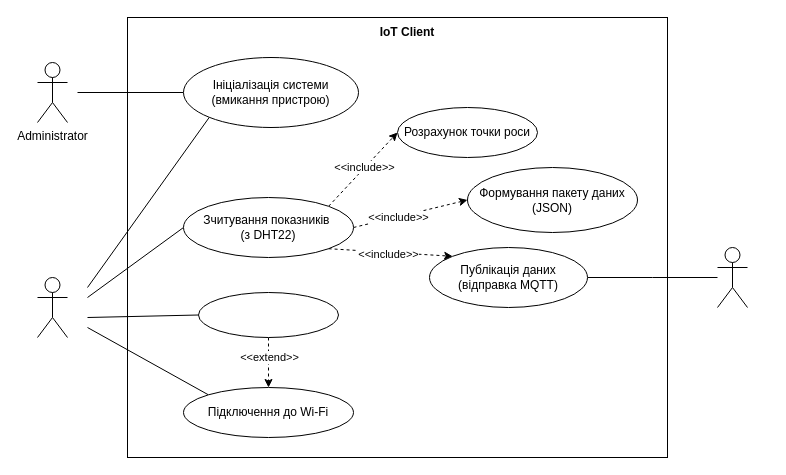
Some shapes in this 786 by 475 pixel diagram are drawn without their labels. The shapes that lost their labels are listed below. From the top down, each one's centre as x and y in pixels, then its label:
pixel 732 277: MQTT Broker
pixel 52 307: IoT Device (ESP32)
pixel 268 315: Обробка помилок
